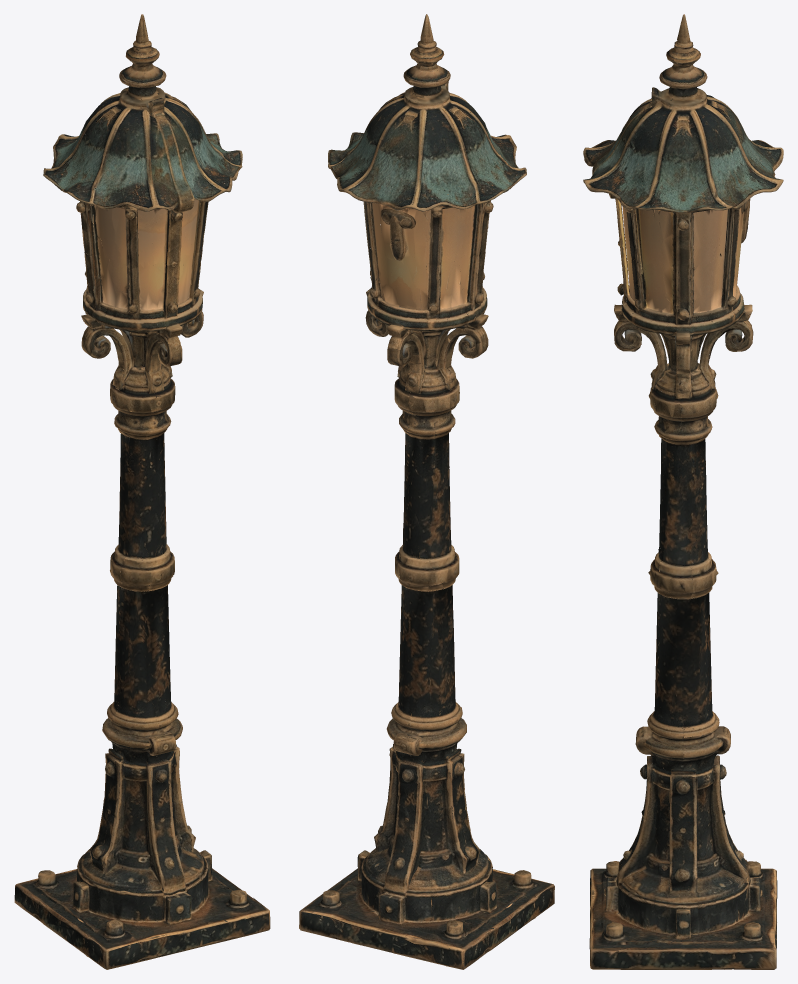
The model's file is lamppost.glb.
3 renders of one model, left to right at view 1: azimuth 30°, elevation 25°; view 2: azimuth 150°, elevation 25°; view 3: azimuth 270°, elevation 25°, orthographic.
Parts seen in each view (by area): view 1: Mesh_0; view 2: Mesh_0; view 3: Mesh_0.
Part boxes in pixels (<box>): Mesh_0: <box>14,14,270,969</box>; Mesh_0: <box>299,14,554,969</box>; Mesh_0: <box>583,14,783,969</box>.
Size of the model in its own units: 0.3822 by 1.9 by 0.378.
Materials: 1 (1 with a texture image).
